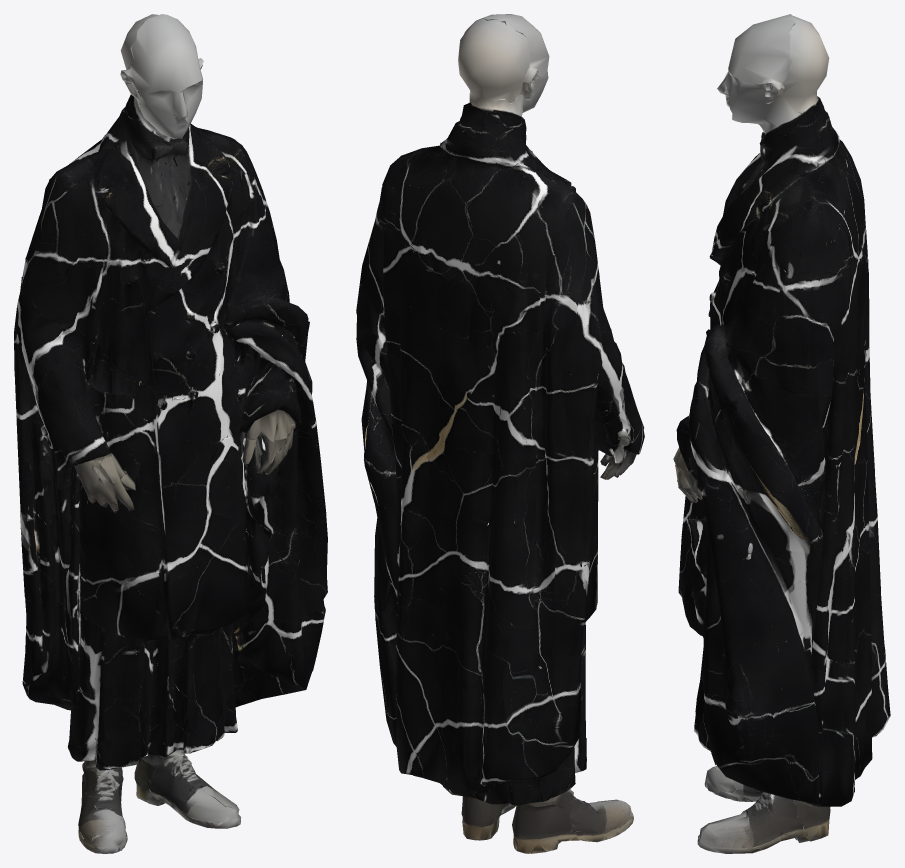
The model's file is foyer-listening-host.glb.
3 views of the same model, side by side, from view 1: azimuth 30°, elevation 25°; view 2: azimuth 150°, elevation 25°; view 3: azimuth 270°, elevation 25° (orthographic). The views are drawn at different scales.
Visible parts, largest first — view 1: foyer_listening_host_Mesh_01; view 2: foyer_listening_host_Mesh_01; view 3: foyer_listening_host_Mesh_01.
Boxes of the visible parts, x1=… form: foyer_listening_host_Mesh_01: x1=14, y1=14, x2=327, y2=853; foyer_listening_host_Mesh_01: x1=356, y1=14, x2=644, y2=853; foyer_listening_host_Mesh_01: x1=673, y1=14, x2=890, y2=853.
Size of the model in its own units: 0.6459 by 1.82 by 0.4413.
1 material, 1 textured.
